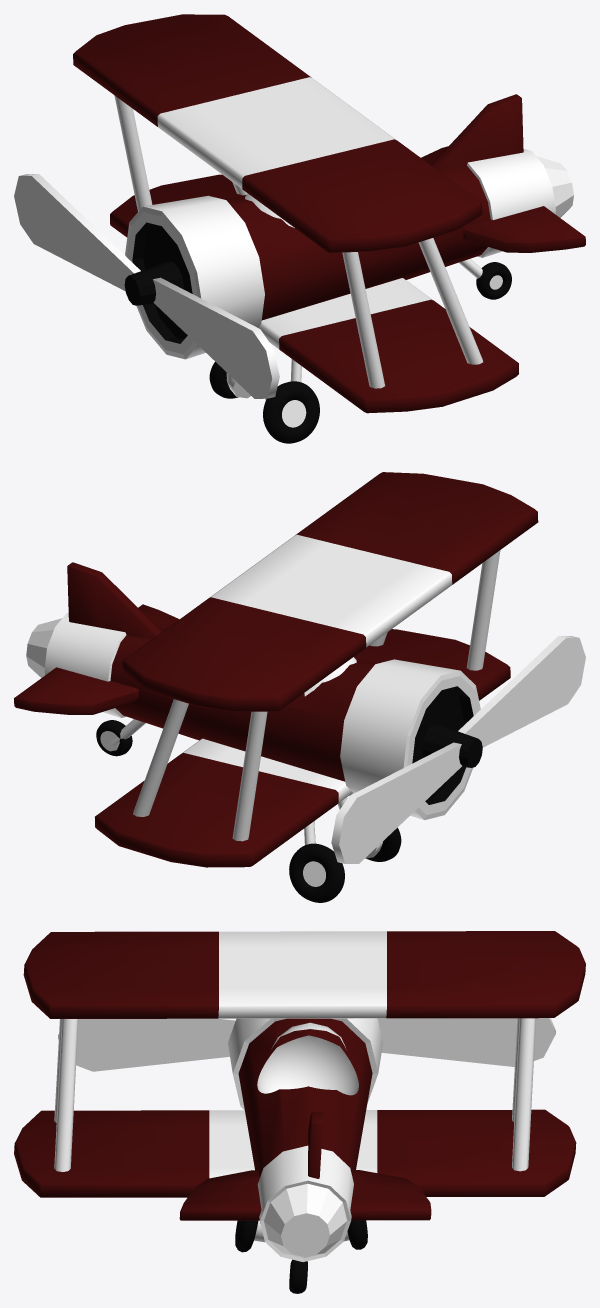
File: Project Name.gltf
3 renders of one model, top to bottom at view 1: azimuth 30°, elevation 25°; view 2: azimuth 150°, elevation 25°; view 3: azimuth 270°, elevation 25°, orthographic. The views are drawn at different scales.
Visible parts, largest first — view 1: Buffer Layer1, Buffer Layer0, Buffer Layer; view 2: Buffer Layer1, Buffer Layer0, Buffer Layer; view 3: Buffer Layer1, Buffer Layer0, Buffer Layer.
Part boxes in pixels (left/top/right/bottom): Buffer Layer1: left=73, top=14, right=585, bottom=413; Buffer Layer0: left=14, top=77, right=573, bottom=427; Buffer Layer: left=124, top=222, right=511, bottom=443; Buffer Layer1: left=14, top=472, right=538, bottom=867; Buffer Layer0: left=26, top=534, right=585, bottom=886; Buffer Layer: left=96, top=686, right=482, bottom=902; Buffer Layer1: left=14, top=931, right=585, bottom=1220; Buffer Layer0: left=54, top=931, right=555, bottom=1261; Buffer Layer: left=235, top=1220, right=367, bottom=1293.
Size of the model in its own units: 0.1907 by 0.1234 by 0.2216.
